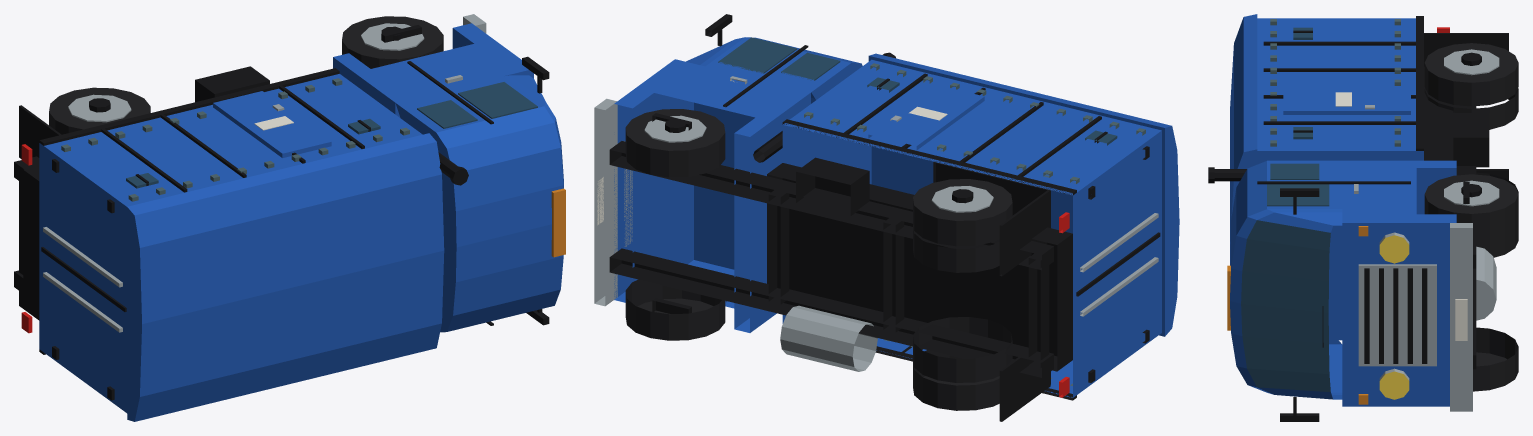
3 renders of one model, left to right at view 1: azimuth 30°, elevation 25°; view 2: azimuth 150°, elevation 25°; view 3: azimuth 270°, elevation 25°, orthographic. The views are drawn at different scales.
Parts seen in each view (by area): view 1: default_roof, default_body, default_cab_upper, default_cab_arch, default_front1, default_side1_-0.90_1.95_cc1, default_rear_out1, default_subframe, default_side1_-3.60_1.75_black, default_cab_back, default_side_window1, default_battery_box (+10 smaller); view 2: default_body, default_subframe, default_cab_arch, default_chassis-1, default_cab_front, default_cab_back, default_chassis1, default_front1, default_rear_out1, default_roof, default_fuel_tank, default_bumper (+19 smaller); view 3: default_cab_upper, default_body, default_cab_front, default_grille, default_rear_out1, default_front1, default_roof, default_bumper, default_cab_arch, default_side1_-0.90_1.95_cc1, default_front-1, default_battery_box (+26 smaller).
Boxes of the visible parts, bbox=[...] form: default_roof: bbox=[127, 133, 444, 421]; default_body: bbox=[39, 74, 422, 413]; default_cab_upper: bbox=[395, 75, 563, 332]; default_cab_arch: bbox=[371, 44, 514, 98]; default_front1: bbox=[342, 16, 443, 68]; default_side1_-0.90_1.95_cc1: bbox=[213, 91, 331, 158]; default_rear_out1: bbox=[49, 87, 150, 134]; default_subframe: bbox=[23, 166, 39, 309]; default_side1_-3.60_1.75_black: bbox=[39, 68, 339, 145]; default_cab_back: bbox=[333, 53, 410, 117]; default_side_window1: bbox=[458, 82, 537, 118]; default_battery_box: bbox=[195, 66, 269, 102]; default_body: bbox=[782, 59, 1161, 397]; default_subframe: bbox=[767, 163, 1072, 371]; default_cab_arch: bbox=[654, 64, 794, 308]; default_chassis-1: bbox=[609, 248, 1053, 377]; default_cab_front: bbox=[614, 59, 693, 302]; default_cab_back: bbox=[734, 88, 810, 332]; default_chassis1: bbox=[609, 141, 1053, 270]; default_front1: bbox=[625, 109, 725, 177]; default_rear_out1: bbox=[913, 179, 1012, 246]; default_roof: bbox=[868, 53, 1179, 336]; default_fuel_tank: bbox=[780, 305, 877, 371]; default_bumper: bbox=[594, 98, 617, 306]; default_cab_upper: bbox=[1230, 160, 1342, 399]; default_body: bbox=[1257, 18, 1423, 340]; default_cab_front: bbox=[1342, 214, 1456, 406]; default_grille: bbox=[1358, 264, 1436, 366]; default_rear_out1: bbox=[1424, 43, 1518, 106]; default_front1: bbox=[1424, 174, 1518, 238]; default_roof: bbox=[1230, 14, 1257, 243]; default_bumper: bbox=[1450, 223, 1472, 411]; default_cab_arch: bbox=[1342, 168, 1416, 214]; default_side1_-0.90_1.95_cc1: bbox=[1283, 88, 1410, 114]; default_front-1: bbox=[1473, 327, 1518, 391]; default_battery_box: bbox=[1453, 113, 1489, 167].
Bounding box in the file's own units: 7.56 × 3.9 × 4.75.
